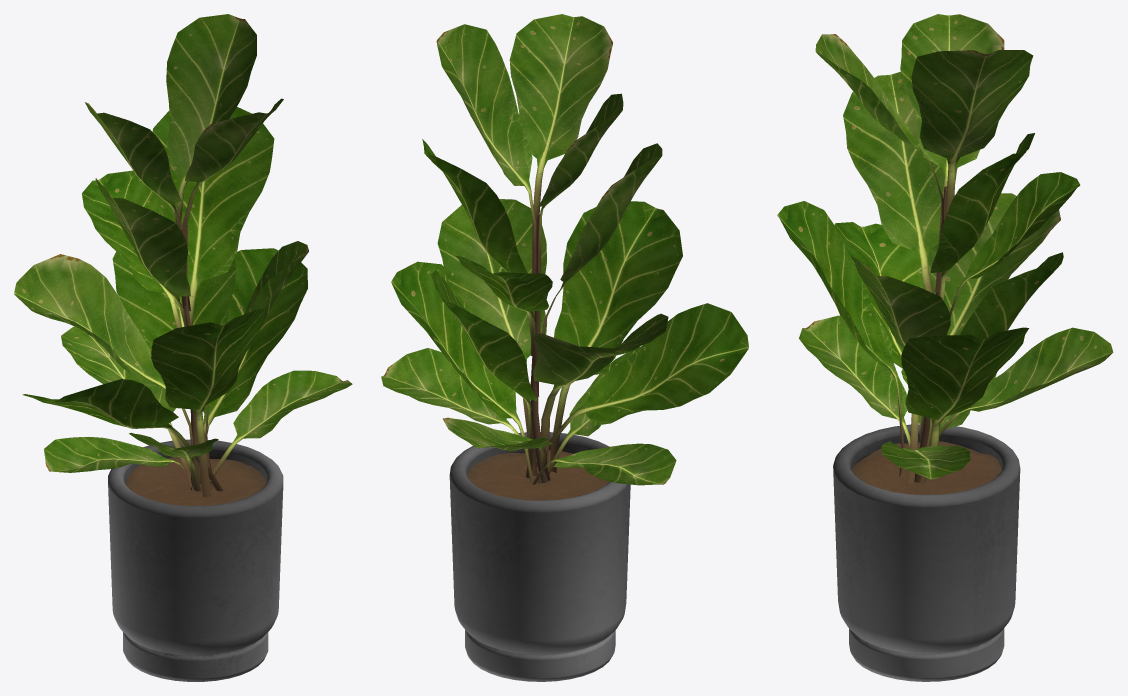
File: MyRoom_Plants.fbx
3 views of the same model, side by side, from view 1: azimuth 30°, elevation 25°; view 2: azimuth 150°, elevation 25°; view 3: azimuth 270°, elevation 25° (orthographic). The views are drawn at different scales.
Visible parts, largest first — view 1: MyRoom_Plants; view 2: MyRoom_Plants; view 3: MyRoom_Plants.
Boxes of the visible parts, bbox=[...] form: MyRoom_Plants: bbox=[14, 14, 352, 681]; MyRoom_Plants: bbox=[381, 14, 748, 681]; MyRoom_Plants: bbox=[777, 14, 1113, 681].
Bounding box in the file's own units: 59.27 × 104 × 49.59.
